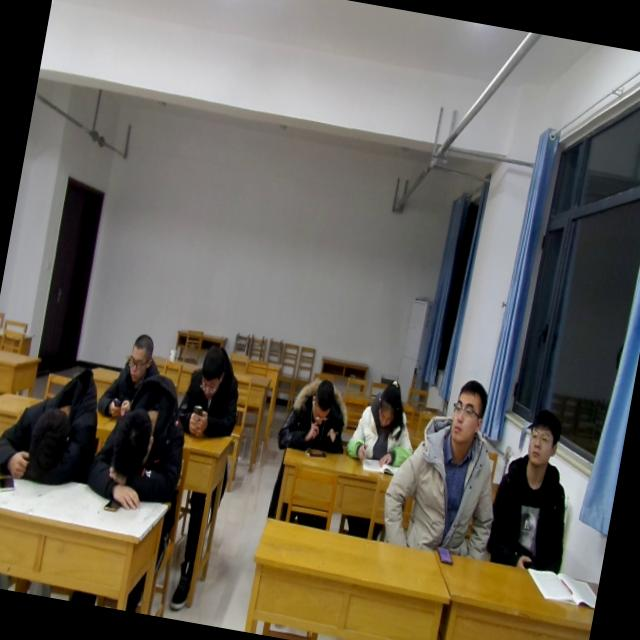bow: (79, 372, 195, 520), (0, 359, 105, 491)
down: (193, 339, 232, 400), (370, 371, 408, 430), (122, 326, 156, 386), (306, 373, 340, 422)
lookup: (444, 373, 492, 455), (517, 402, 566, 472)
sit: (374, 368, 514, 561), (489, 403, 587, 570), (342, 368, 424, 476), (170, 335, 250, 445), (276, 367, 356, 459), (99, 322, 167, 423)
